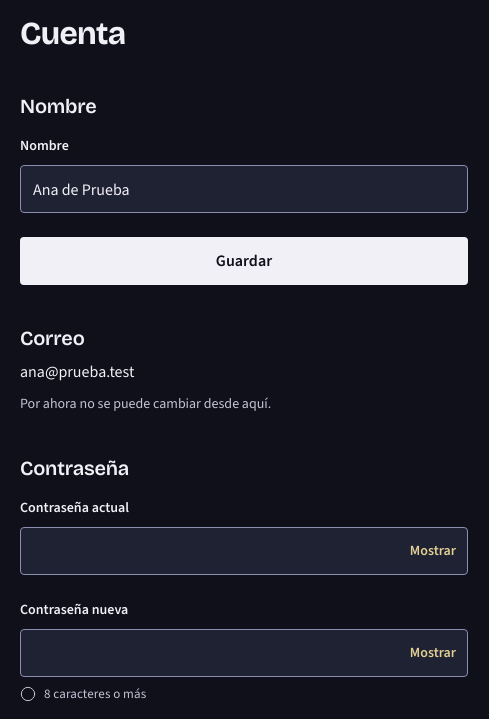
la pantalla de la cuenta (PA-25) › cuenta suspendida: la pantalla es PA-35, con «Cerrar sesión» y sin formulario
The width and height of the screenshot is (489, 719).
Replace the text in the field labelled "Nombre" with "Beatriz" at (244, 189), box [20, 165, 468, 213]
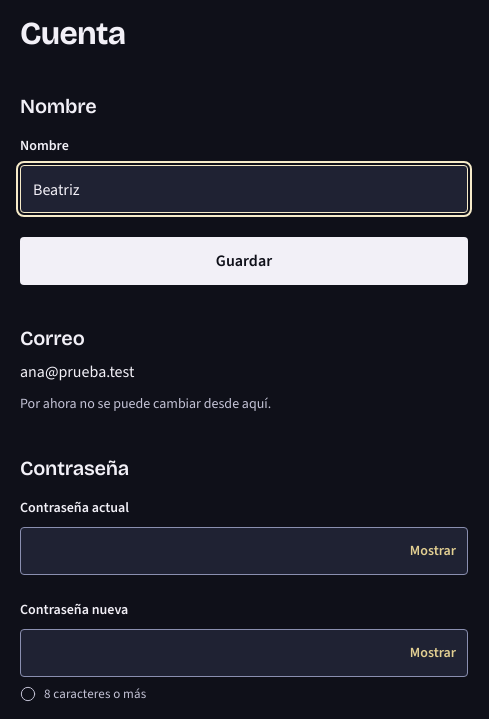
Click the button "Guardar" at (244, 261), box [20, 237, 468, 285]
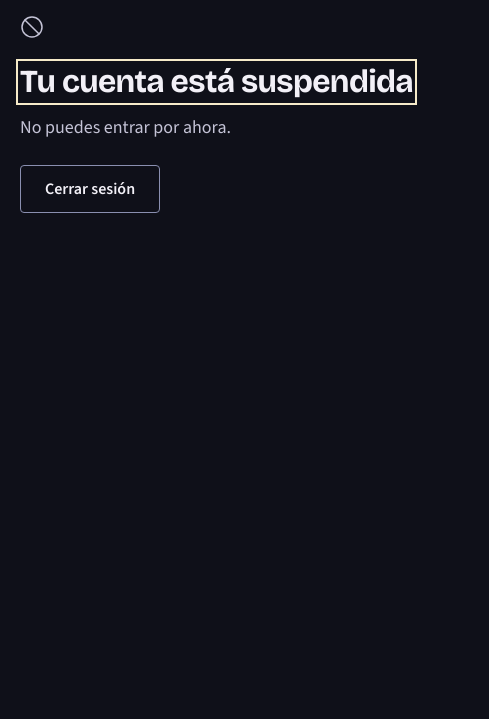
Result: the heading reads "Tu cuenta está suspendida" at [20, 62, 413, 101]
Result: the field is gone
Result: the button "Cerrar sesión" is shown at [20, 165, 160, 213]
